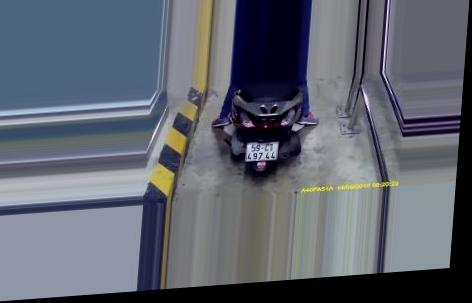License_Plate: (241, 136, 282, 167)
